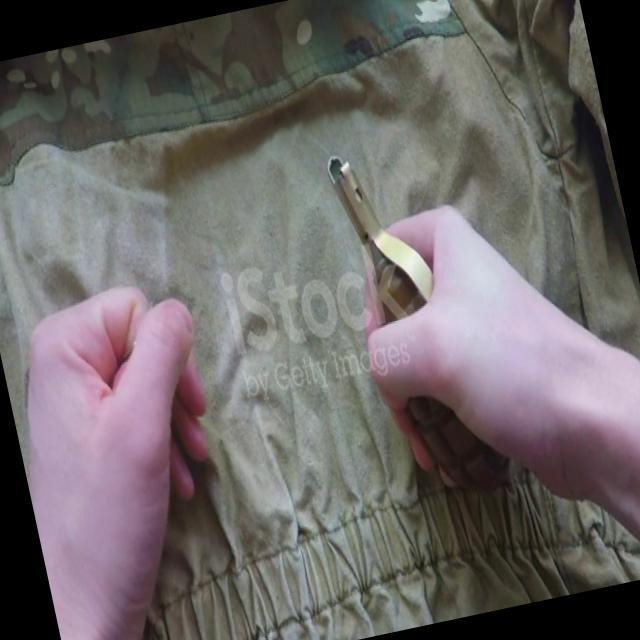grenade: (325, 128, 517, 511)
